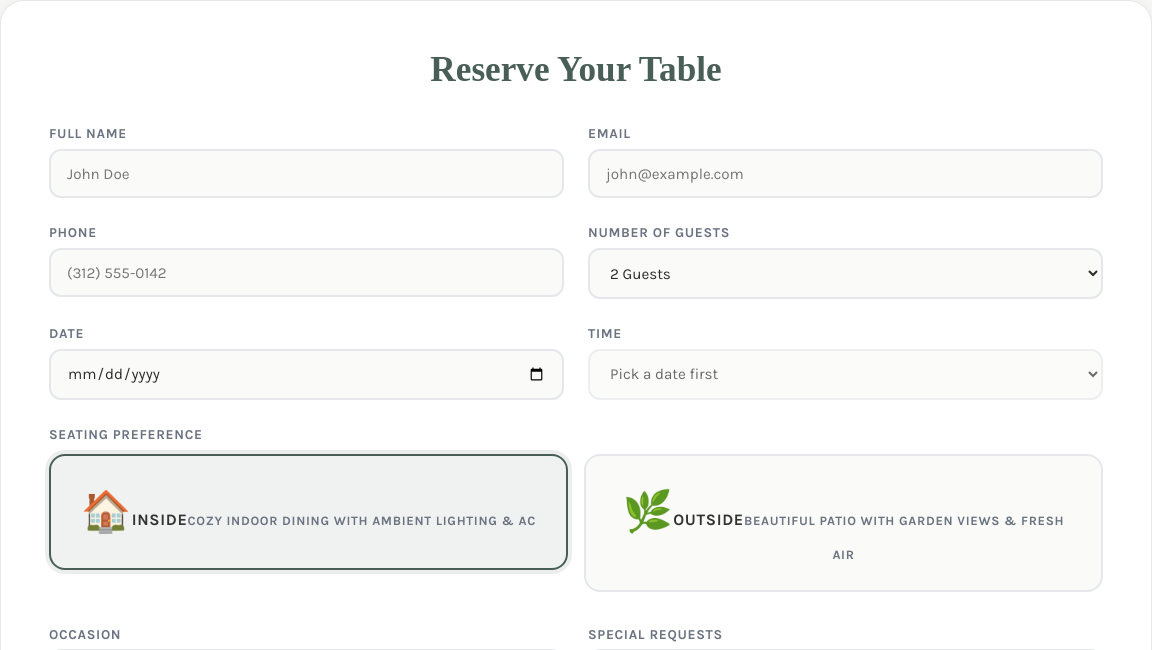
Test: BookingForm › shows email format error on blur for invalid email
Type "not-an-email" into the field labelled "Email".
click(846, 174); type("not-an-email")  # box [588,149,1103,198]
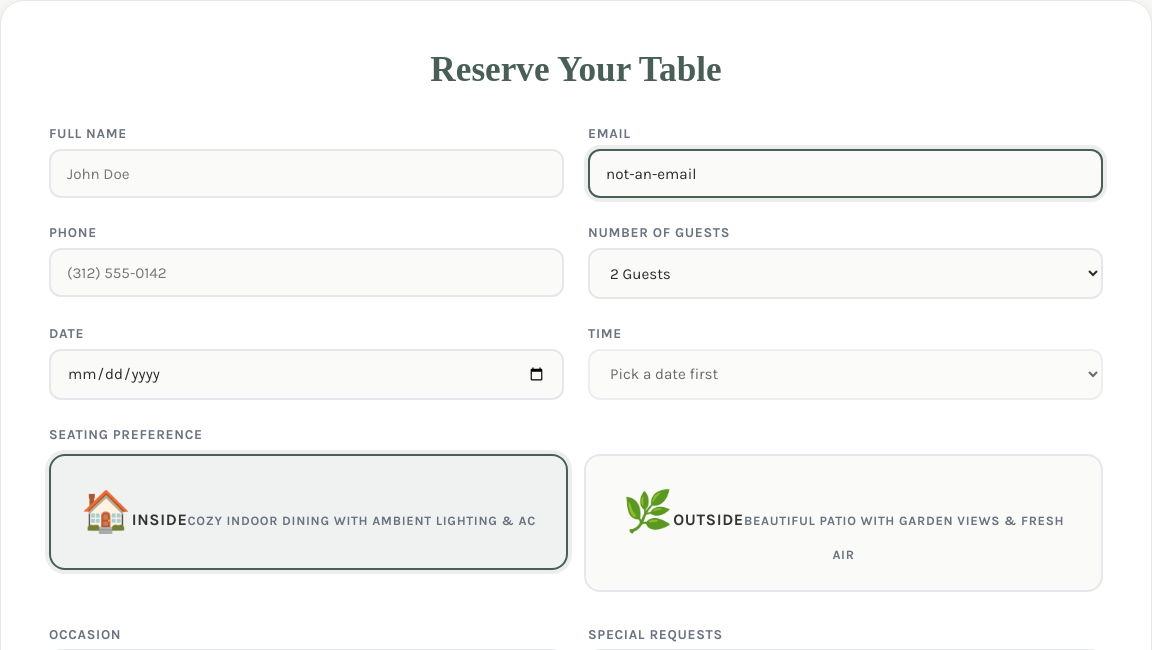
Leave the field labelled "Email", box [588,149,1103,198]
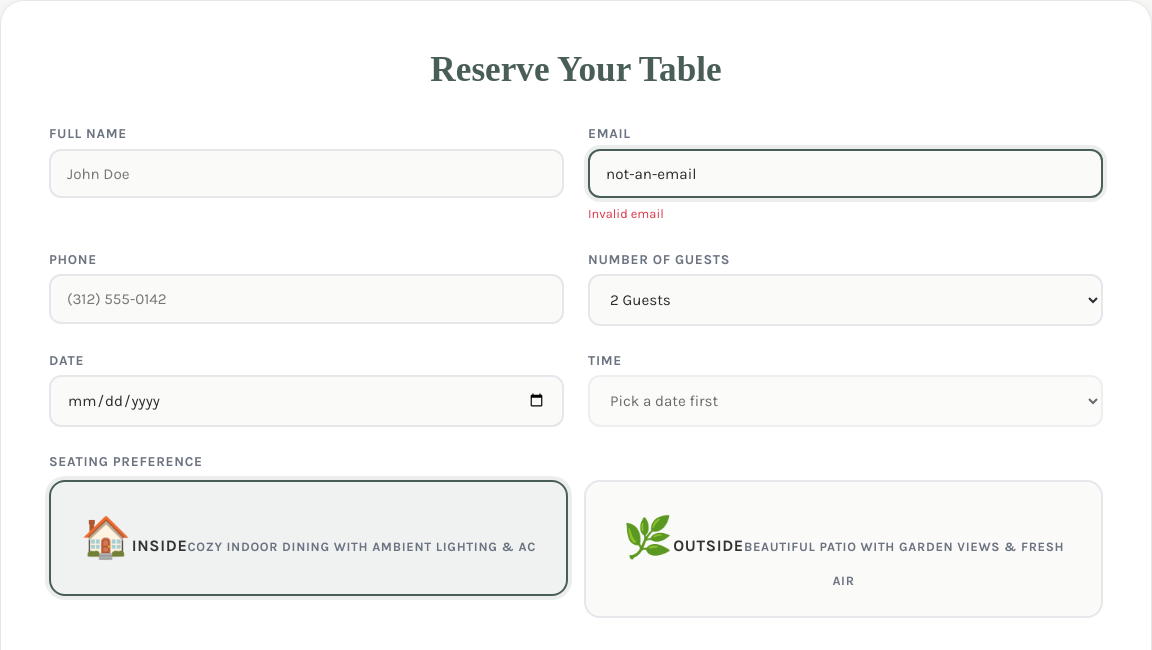
Expected: the text "Invalid email" is shown, [588,206,664,221]
